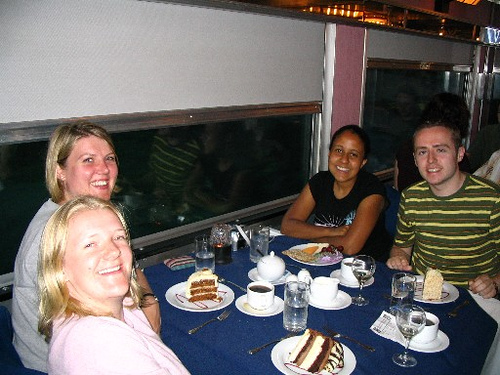without_mask: (61, 210, 134, 305), (54, 134, 118, 201), (411, 131, 465, 187), (325, 131, 366, 182)
